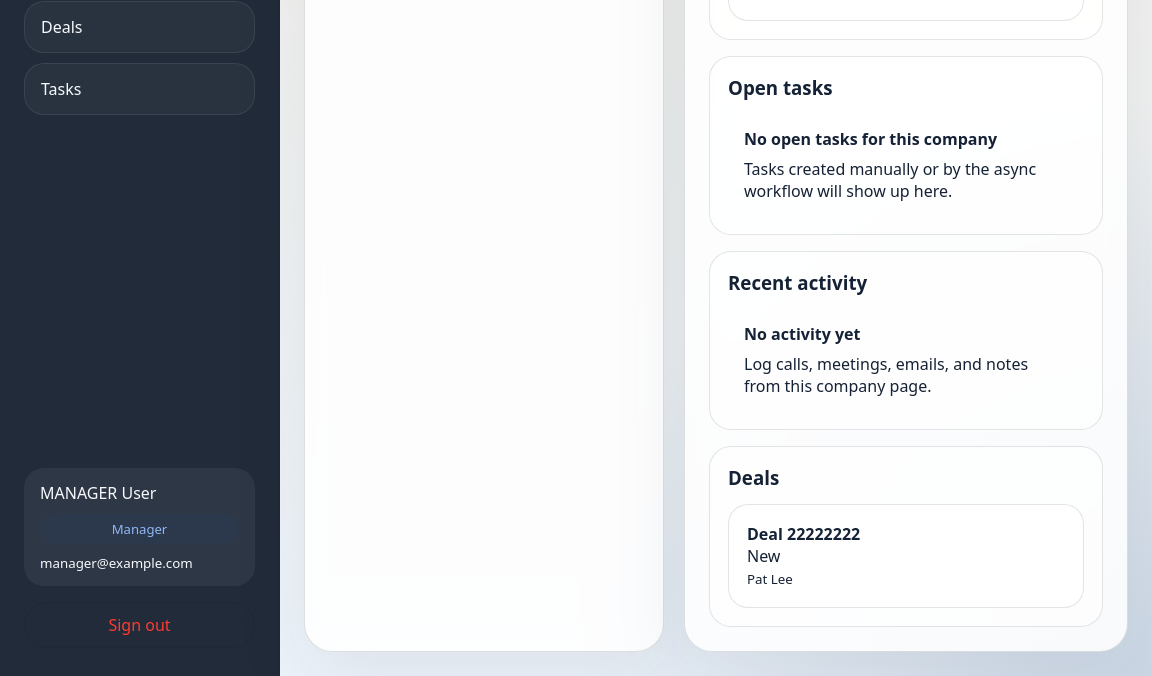
Scenario: sign out returns to the login screen instead of rendering a blank page
This screenshot has width=1152, height=676.
(page scrolled)
Click the button "Sign out": (140, 625) [24,602,255,648]
(page scrolled)
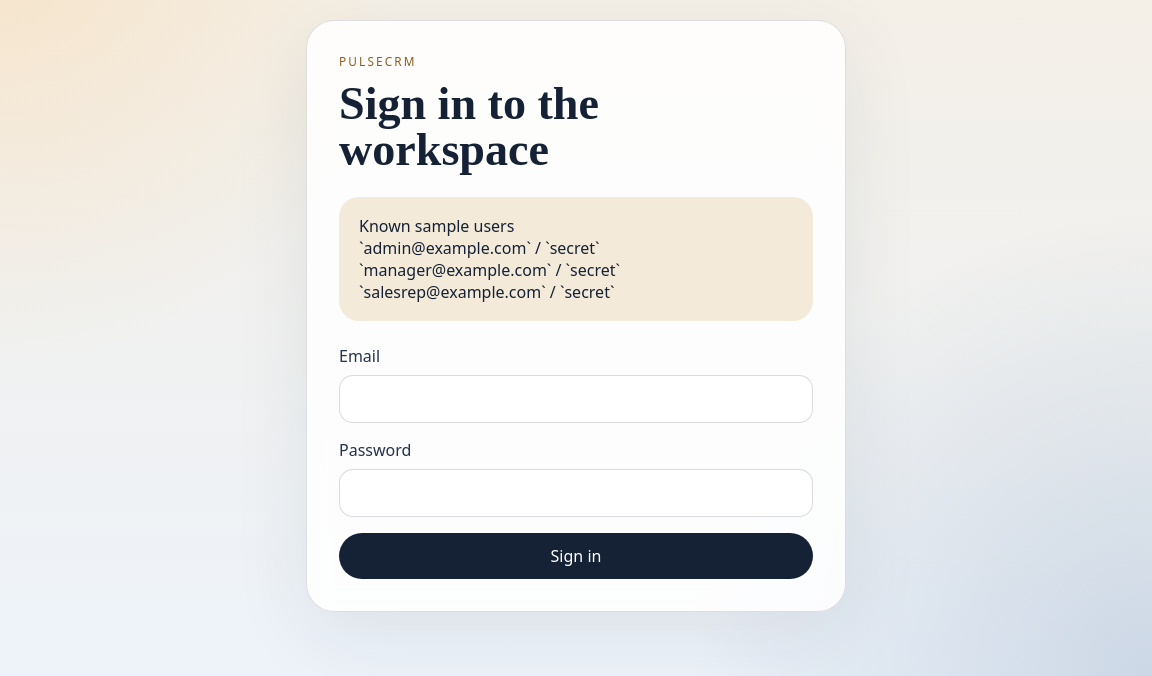
Check: the heading "Sign in to the workspace" is shown, box [339,78,599,175]
Check: the text "Known sample users" is shown, box [359,215,514,237]
